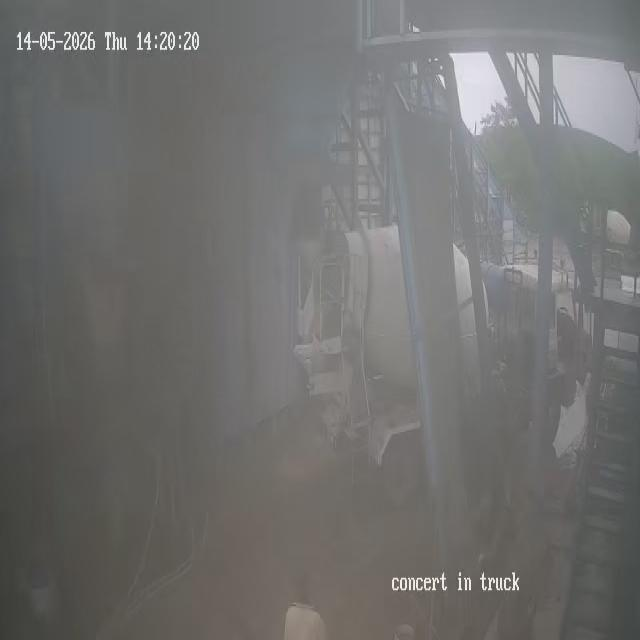cement_mixer_truck: (285, 195, 586, 522)
